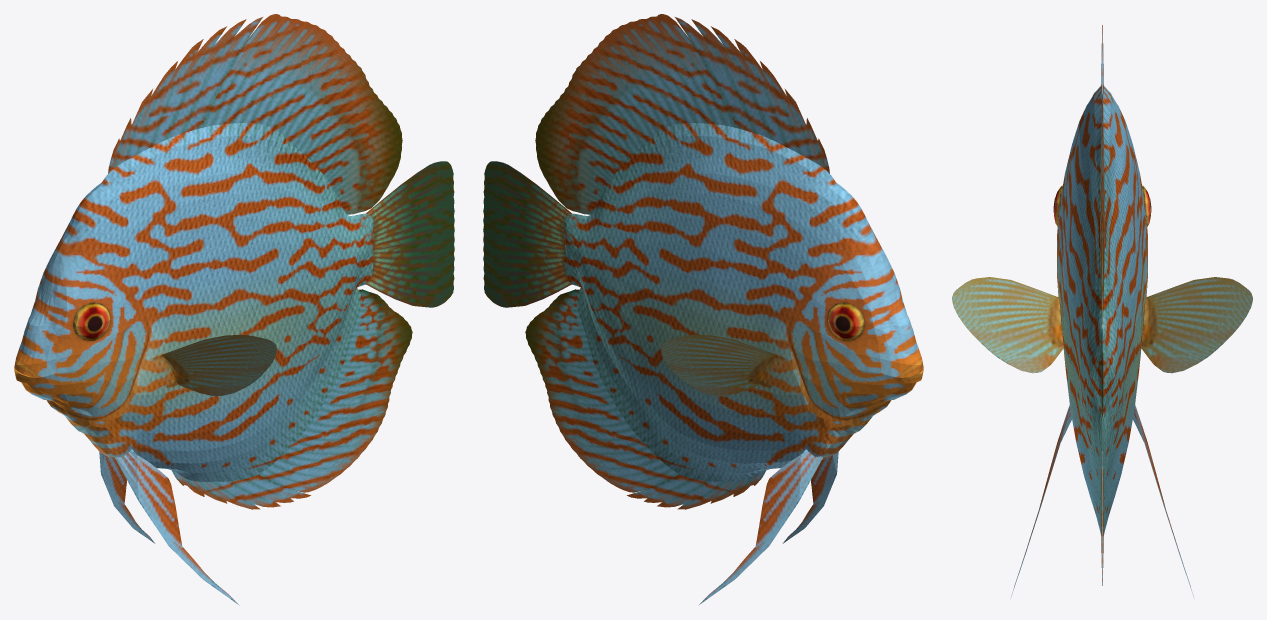
The model's file is fish.FBX.
The picture shows the model from 3 angles, left to right: view 1: azimuth 30°, elevation 25°; view 2: azimuth 150°, elevation 25°; view 3: azimuth 270°, elevation 25°; orthographic projection. The views are drawn at different scales.
Parts seen in each view (by area): view 1: BODY01L, BACK02L, HIP02L, TAIL01L, BACK01L, BUST01L, WAIST01L, HIP01L, WAIST01R, EYE01L; view 2: BODY01L, BACK02L, HIP02L, TAIL01L, BACK01L, BUST01R, WAIST01R, HIP01L, WAIST01L, EYE01R; view 3: BODY01L, BUST01R, BUST01L, BACK02L, WAIST01R, WAIST01L, HIP02L.
Part boxes in pixels (x1=…): BODY01L: x1=14, y1=123, x2=373, y2=482; BACK02L: x1=201, y1=14, x2=402, y2=214; HIP02L: x1=259, y1=289, x2=412, y2=492; TAIL01L: x1=365, y1=161, x2=454, y2=307; BACK01L: x1=108, y1=17, x2=262, y2=173; BUST01L: x1=161, y1=335, x2=276, y2=396; WAIST01L: x1=115, y1=449, x2=239, y2=605; HIP01L: x1=172, y1=470, x2=310, y2=509; WAIST01R: x1=99, y1=452, x2=155, y2=543; EYE01L: x1=73, y1=302, x2=110, y2=340; BODY01L: x1=564, y1=123, x2=923, y2=482; BACK02L: x1=535, y1=14, x2=736, y2=214; HIP02L: x1=525, y1=289, x2=678, y2=492; TAIL01L: x1=483, y1=161, x2=572, y2=307; BACK01L: x1=675, y1=17, x2=829, y2=173; BUST01R: x1=661, y1=335, x2=776, y2=396; WAIST01R: x1=698, y1=449, x2=822, y2=605; HIP01L: x1=627, y1=470, x2=765, y2=509; WAIST01L: x1=782, y1=452, x2=838, y2=543; EYE01R: x1=827, y1=302, x2=864, y2=340; BODY01L: x1=1057, y1=85, x2=1147, y2=535; BUST01R: x1=1141, y1=277, x2=1252, y2=373; BUST01L: x1=952, y1=277, x2=1063, y2=373; BACK02L: x1=1100, y1=87, x2=1104, y2=323; WAIST01R: x1=1133, y1=405, x2=1193, y2=596; WAIST01L: x1=1011, y1=405, x2=1071, y2=596; HIP02L: x1=1100, y1=446, x2=1104, y2=585.
Bounding box in the file's own units: 15.75 × 18.67 × 8.47.
Materials: 12 (12 with a texture image).
